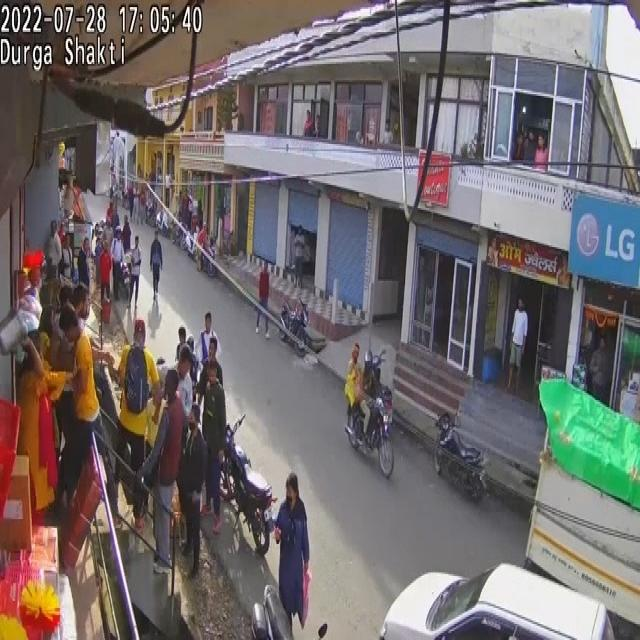fight: (46, 302, 115, 524), (15, 315, 72, 524), (136, 368, 186, 576), (116, 321, 161, 526), (0, 531, 62, 637), (163, 357, 202, 417), (534, 135, 548, 169)
non-fight: (274, 472, 309, 632), (177, 399, 208, 578), (200, 355, 228, 526), (344, 342, 368, 438), (507, 298, 528, 393), (198, 309, 224, 372), (254, 263, 270, 335), (183, 186, 206, 233), (175, 327, 194, 380), (129, 234, 142, 308), (99, 239, 112, 304), (77, 237, 91, 294), (127, 184, 134, 217)
